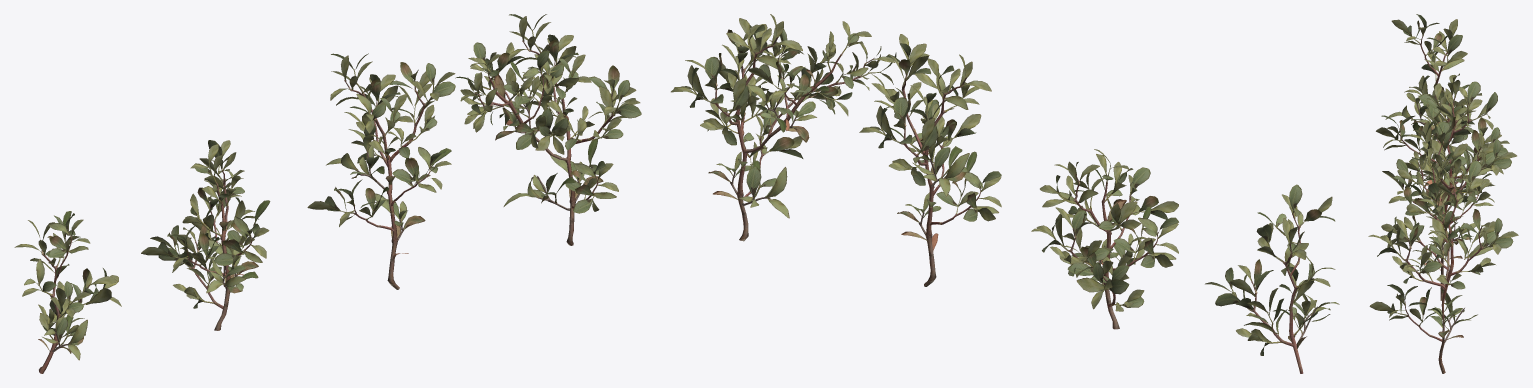
File: shrub_04_4k.gltf
3 renders of one model, left to right at view 1: azimuth 30°, elevation 25°; view 2: azimuth 150°, elevation 25°; view 3: azimuth 270°, elevation 25°, orthographic. The views are drawn at different scales.
Visible parts, largest first — view 1: shrub_04; view 2: shrub_04; view 3: shrub_04.
Boxes of the visible parts, x1,y1,x2,y2 form: shrub_04: [14, 14, 641, 373]; shrub_04: [671, 14, 1339, 373]; shrub_04: [1368, 14, 1518, 373].
Bounding box in the file's own units: 0.5837 × 0.2192 × 0.1461.
Materials: 1 (1 with a texture image).
